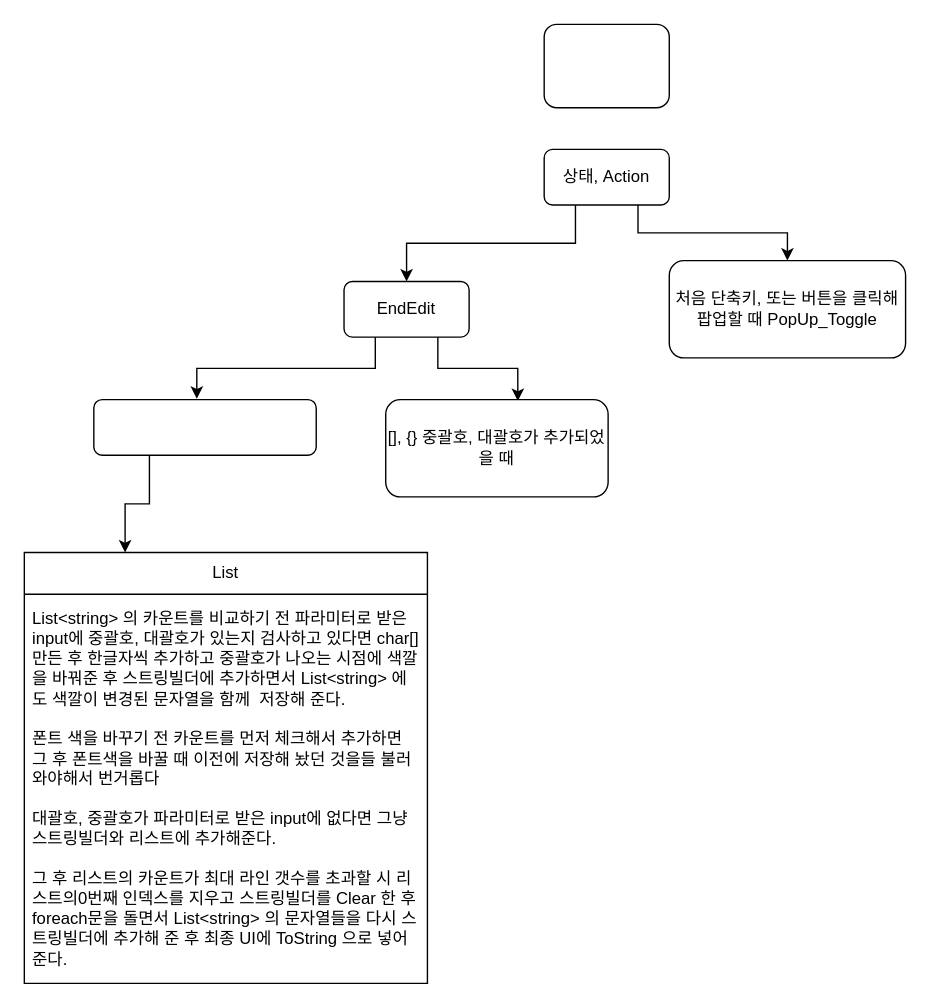
This 930x1008 diagram has some shape labels left out. Each missing label, with the centre of its shape:
기능 콘솔창: point 606,65
줄 수가 5개 라인을 넘었을 때: point 204,426
